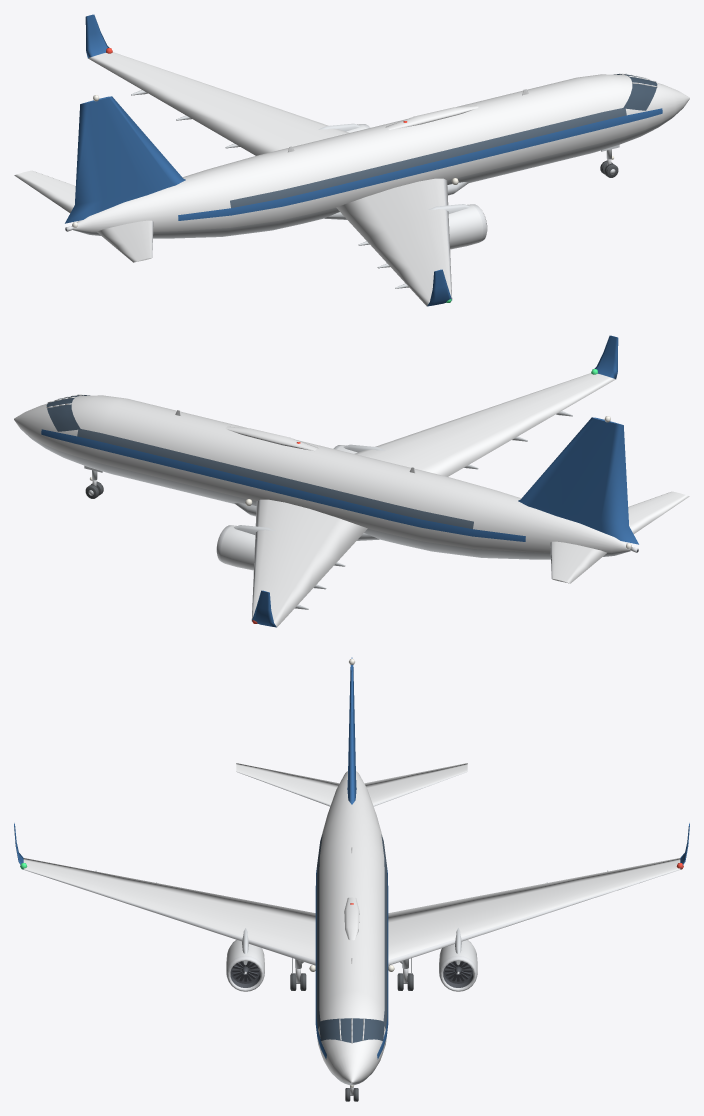
The model's file is narrow.glb.
3 renders of one model, top to bottom at view 1: azimuth 30°, elevation 25°; view 2: azimuth 150°, elevation 25°; view 3: azimuth 270°, elevation 25°, orthographic. The views are drawn at different scales.
Parts seen in each view (by area): view 1: BodyMesh; view 2: BodyMesh; view 3: BodyMesh, Gear.
Part boxes in pixels (x1,y1,x2,y2): BodyMesh: (14,14,689,306); BodyMesh: (14,335,689,627); BodyMesh: (14,657,689,1085); Gear: (290,958,413,1101).
Bounding box in the file's own units: 38.1 × 12 × 36.86.
